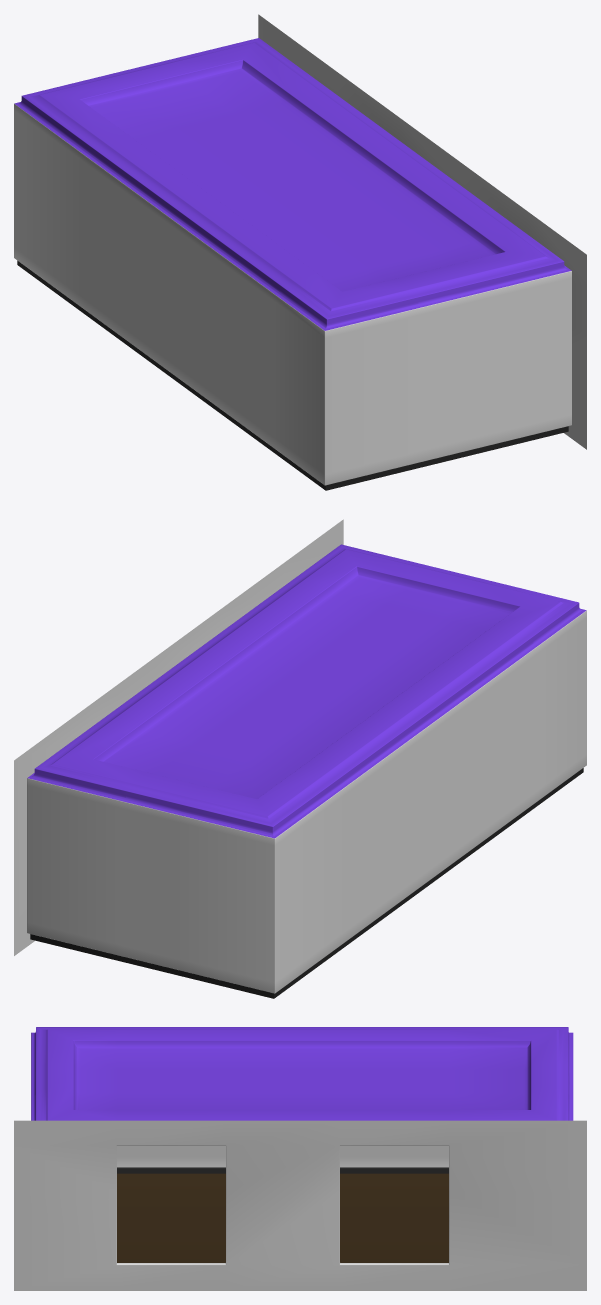
Rendered from room.fbx.
3 views of the same model, one above another, from view 1: azimuth 30°, elevation 25°; view 2: azimuth 150°, elevation 25°; view 3: azimuth 270°, elevation 25° (orthographic). The views are drawn at different scales.
Parts seen in each view (by area): view 1: room; view 2: room; view 3: room.
Boxes of the visible parts, bbox=[...] form: room: bbox=[14, 14, 586, 490]; room: bbox=[14, 519, 586, 998]; room: bbox=[14, 1027, 586, 1290].
Size of the model in its own units: 612 by 453 by 1381.
